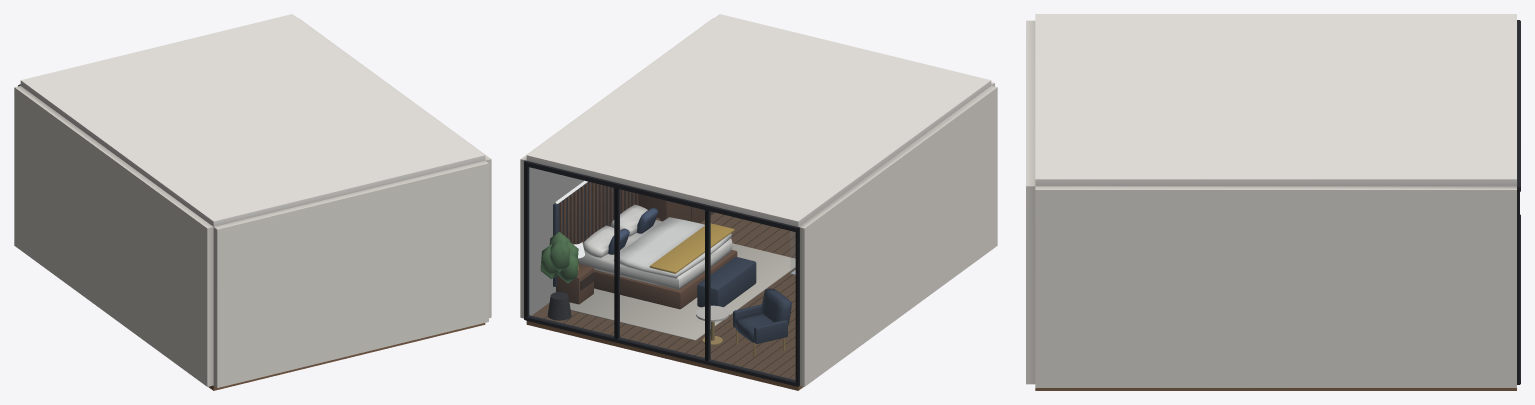
Rendered from tk-deluxe.glb.
3 views of the same model, side by side, from view 1: azimuth 30°, elevation 25°; view 2: azimuth 150°, elevation 25°; view 3: azimuth 270°, elevation 25° (orthographic). The views are drawn at different scales.
Parts seen in each view (by area): view 1: Room_wall, Room_ceiling, Room_floor; view 2: Room_ceiling, Room_glass, Room_wall, Room_floor, Room_frameDark, Room_wood, Room_rug, Room_fabric2, Room_linen, Room_duvet, Room_throw, Room_leaf (+4 smaller); view 3: Room_wall, Room_ceiling, Room_floor, Room_frameDark.
Part boxes in pixels (bbox=[...]): Room_wall: bbox=[14, 18, 491, 387]; Room_ceiling: bbox=[20, 14, 485, 226]; Room_floor: bbox=[208, 323, 485, 390]; Room_ceiling: bbox=[526, 14, 991, 226]; Room_glass: bbox=[529, 168, 795, 380]; Room_wall: bbox=[520, 18, 997, 386]; Room_floor: bbox=[526, 212, 803, 390]; Room_frameDark: bbox=[524, 160, 799, 386]; Room_wood: bbox=[556, 181, 737, 309]; Room_rug: bbox=[569, 243, 795, 340]; Room_fabric2: bbox=[697, 257, 791, 343]; Room_linen: bbox=[579, 204, 732, 289]; Room_duvet: bbox=[614, 217, 731, 278]; Room_throw: bbox=[649, 223, 734, 273]; Room_leaf: bbox=[540, 232, 578, 283]; Room_wall: bbox=[1026, 20, 1516, 387]; Room_ceiling: bbox=[1035, 14, 1516, 186]; Room_floor: bbox=[1035, 388, 1516, 390]; Room_frameDark: bbox=[1517, 20, 1520, 384].
Size of the model in its own units: 5.44 by 3.1 by 6.57.
